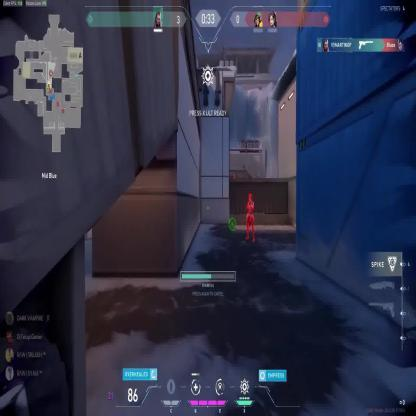enemy: (245, 192, 254, 242), (232, 172, 236, 186)
enemy_head: (247, 193, 252, 202), (233, 172, 235, 176)
